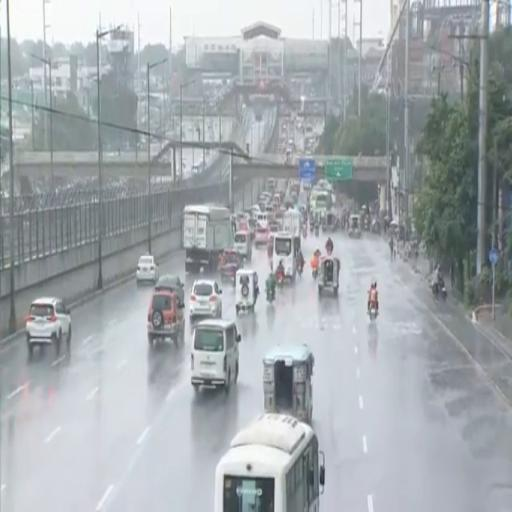bus: (215, 413, 324, 511)
car: (191, 319, 241, 392), (26, 298, 71, 357), (147, 290, 184, 346), (189, 280, 222, 322), (155, 275, 184, 307), (136, 255, 158, 283)
motorcycle: (432, 278, 446, 301), (369, 303, 378, 321), (266, 288, 275, 303), (277, 270, 284, 286), (297, 262, 303, 276), (326, 246, 333, 255), (312, 268, 317, 280), (321, 223, 326, 232), (303, 227, 307, 238), (310, 222, 314, 232), (315, 226, 318, 237)
truck: (183, 204, 233, 273), (282, 210, 301, 249), (282, 210, 301, 236)
